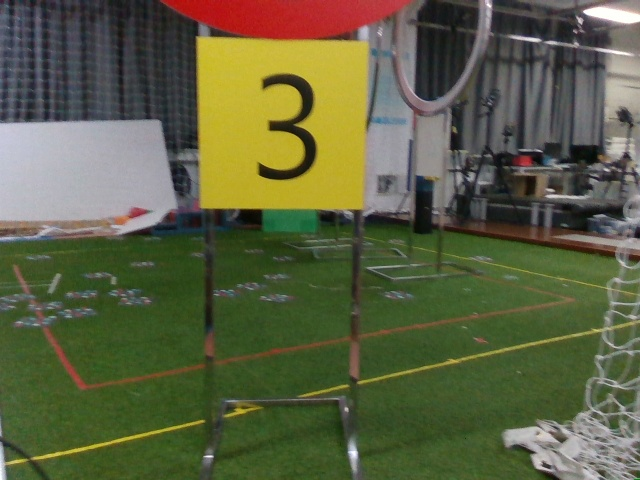target: (193, 43, 360, 206)
